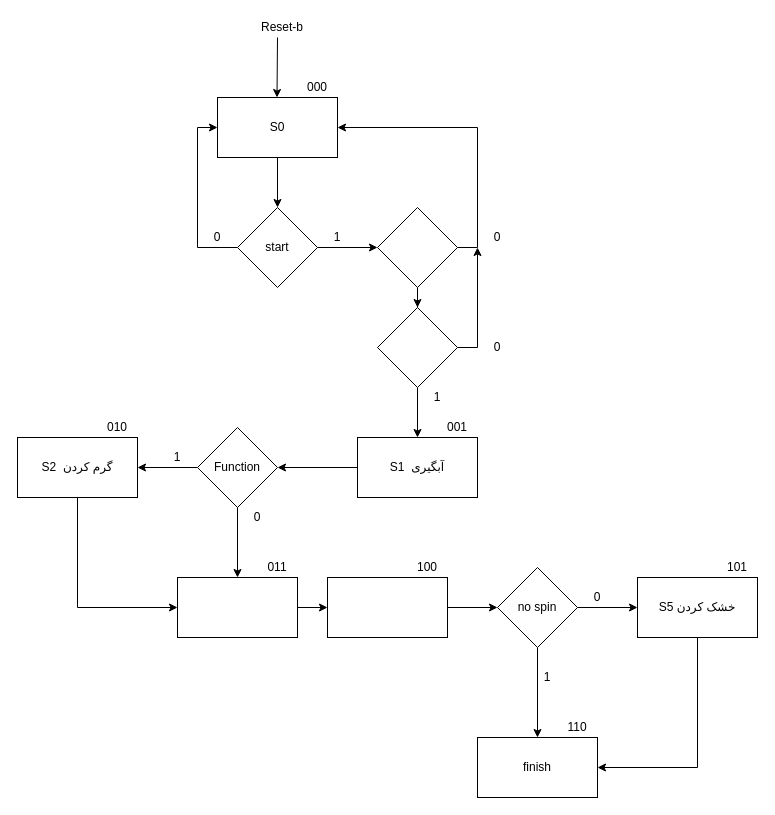
Image size: 775x815. Some labels were removed from this diagram. The centre of each missing label's shape, as x and y in pixels:
Door: pixel 417 247
S3 شستشو: pixel 237 607
S4 خشک کردن: pixel 387 607
Vave: pixel 417 347
